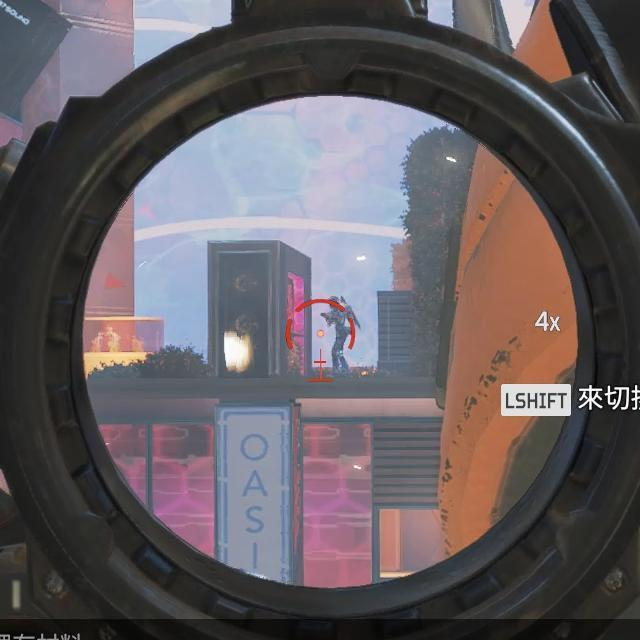avatar: (322, 293, 356, 374)
